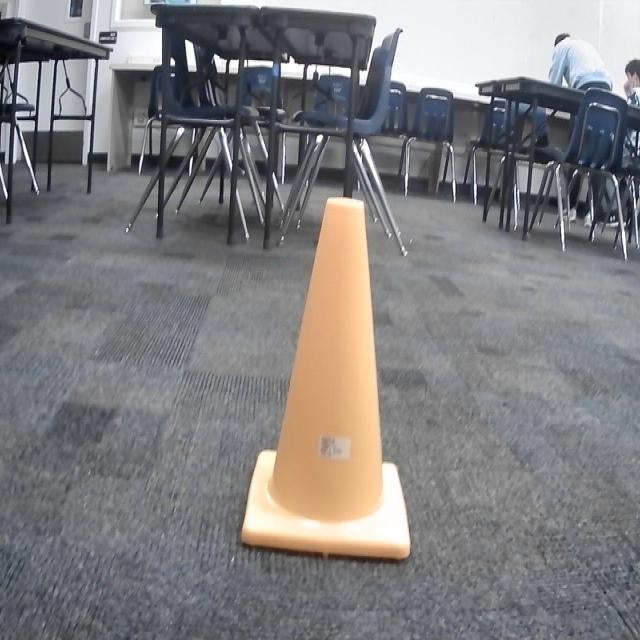cone: (238, 192, 411, 567)
